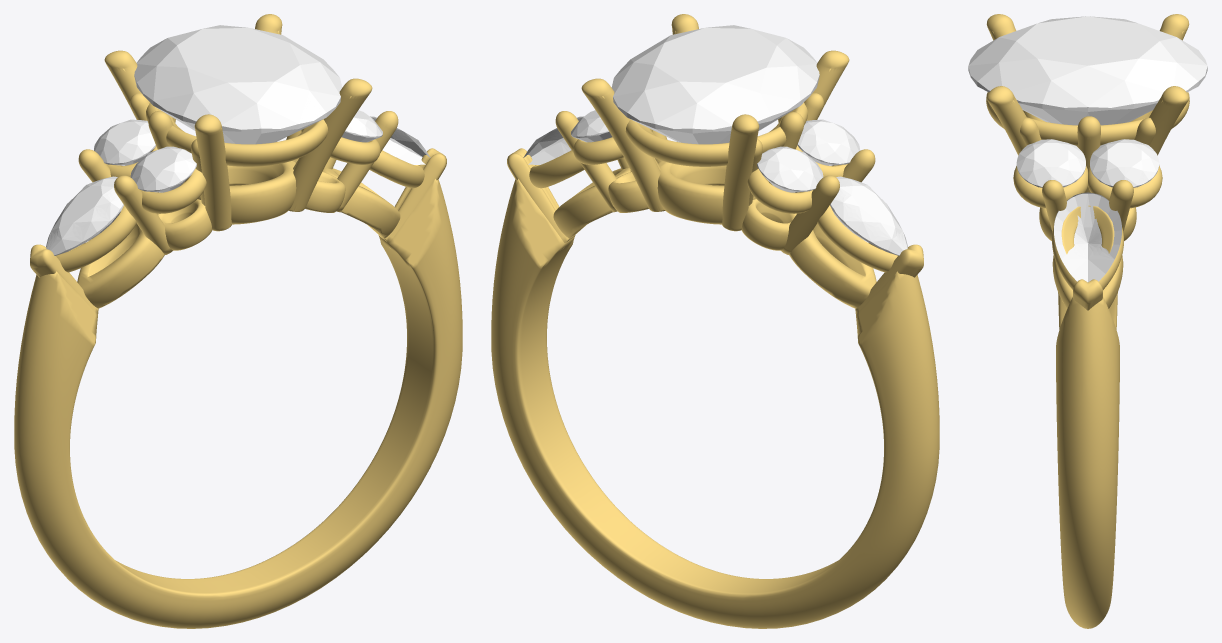
The model's file is RyanMongno2.66_webgi.glb.
3 views of the same model, side by side, from view 1: azimuth 30°, elevation 25°; view 2: azimuth 150°, elevation 25°; view 3: azimuth 270°, elevation 25° (orthographic).
Visible parts, largest first — view 1: 266_ct_PT_for_3d_model, 266_ct_SAPPH_for_3d_model, 266_ct_dia_for_3d_model001, 266_ct_dia_for_3d_model005, 266_ct_dia_for_3d_model004, 266_ct_dia_for_3d_model002, 266_ct_dia_for_3d_model; view 2: 266_ct_PT_for_3d_model, 266_ct_SAPPH_for_3d_model, 266_ct_dia_for_3d_model001, 266_ct_dia_for_3d_model004, 266_ct_dia_for_3d_model005, 266_ct_dia_for_3d_model002, 266_ct_dia_for_3d_model003; view 3: 266_ct_PT_for_3d_model, 266_ct_SAPPH_for_3d_model, 266_ct_dia_for_3d_model002, 266_ct_dia_for_3d_model, 266_ct_dia_for_3d_model003.
Part boxes in pixels (x1=…): 266_ct_PT_for_3d_model: x1=14, y1=14, x2=462, y2=628; 266_ct_SAPPH_for_3d_model: x1=134, y1=25, x2=342, y2=144; 266_ct_dia_for_3d_model001: x1=46, y1=176, x2=123, y2=255; 266_ct_dia_for_3d_model005: x1=130, y1=146, x2=196, y2=192; 266_ct_dia_for_3d_model004: x1=94, y1=119, x2=155, y2=165; 266_ct_dia_for_3d_model002: x1=370, y1=116, x2=430, y2=164; 266_ct_dia_for_3d_model: x1=341, y1=110, x2=382, y2=142; 266_ct_PT_for_3d_model: x1=491, y1=14, x2=939, y2=628; 266_ct_SAPPH_for_3d_model: x1=611, y1=25, x2=819, y2=144; 266_ct_dia_for_3d_model001: x1=830, y1=176, x2=907, y2=255; 266_ct_dia_for_3d_model004: x1=757, y1=146, x2=823, y2=192; 266_ct_dia_for_3d_model005: x1=797, y1=119, x2=859, y2=165; 266_ct_dia_for_3d_model002: x1=523, y1=116, x2=583, y2=164; 266_ct_dia_for_3d_model003: x1=571, y1=110, x2=612, y2=142; 266_ct_PT_for_3d_model: x1=986, y1=14, x2=1189, y2=628; 266_ct_SAPPH_for_3d_model: x1=968, y1=16, x2=1207, y2=125; 266_ct_dia_for_3d_model002: x1=1054, y1=192, x2=1121, y2=282; 266_ct_dia_for_3d_model: x1=1016, y1=139, x2=1085, y2=187; 266_ct_dia_for_3d_model003: x1=1090, y1=139, x2=1159, y2=187.
Bounding box in the file's own units: 2.43 × 2.97 × 1.14.
